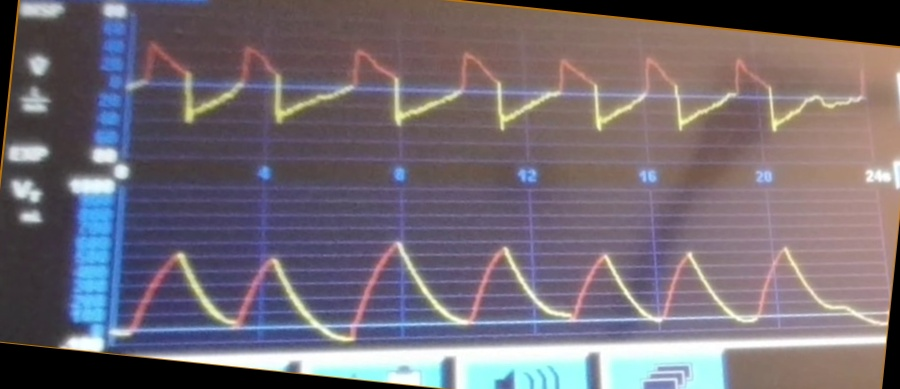Ineffective_effort Flow: (137, 34, 863, 144)
Ineffective_effort Volume: (120, 231, 886, 346)
